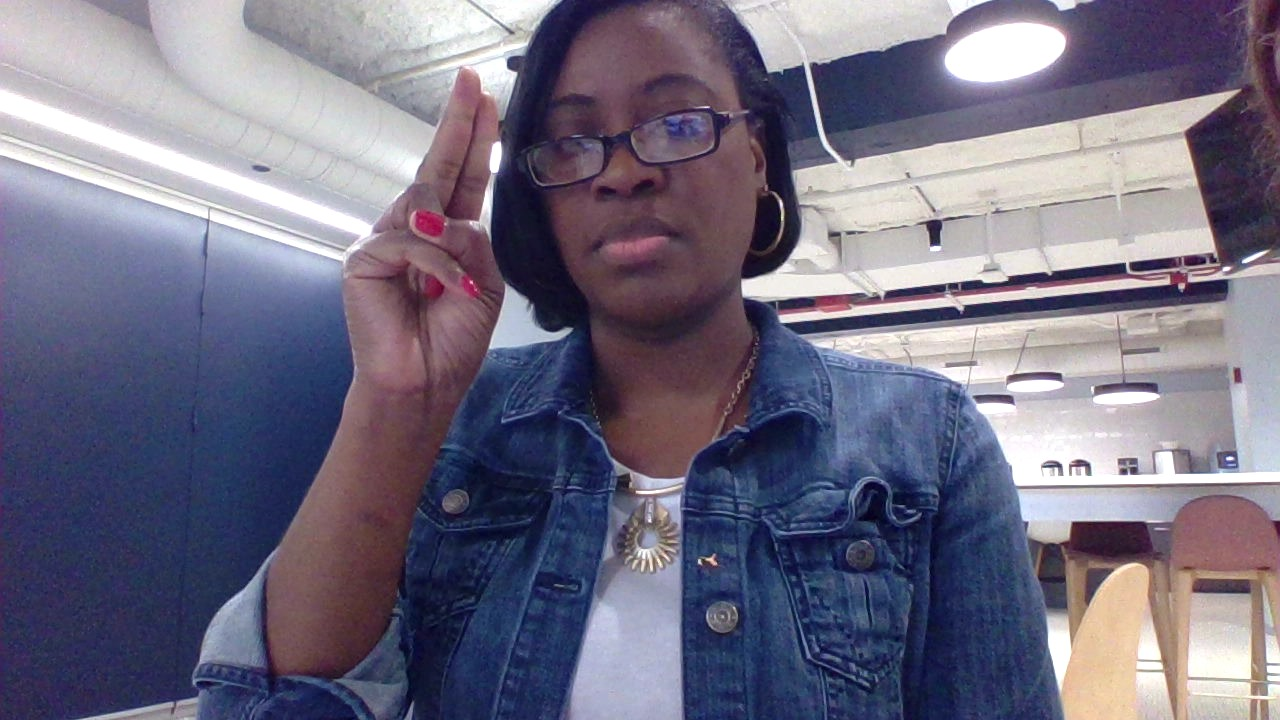u: (323, 54, 530, 427)
